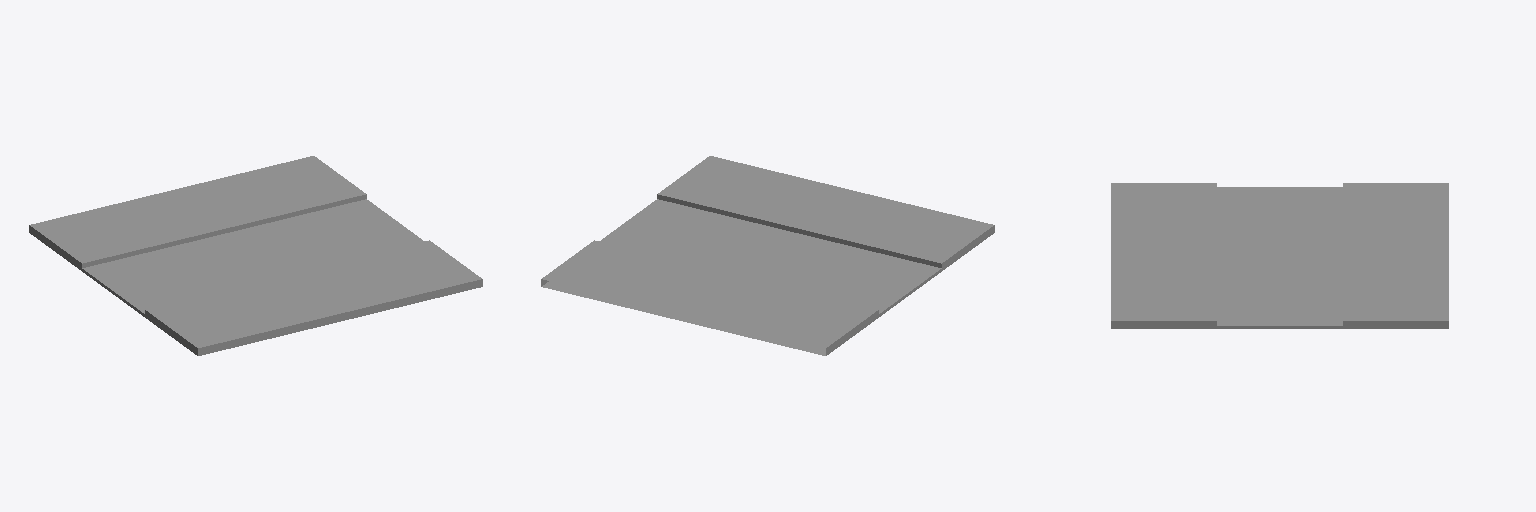
The model's file is ground.obj.
3 renders of one model, left to right at view 1: azimuth 30°, elevation 25°; view 2: azimuth 150°, elevation 25°; view 3: azimuth 270°, elevation 25°, orthographic.
Parts seen in each view (by area): view 1: Cube; view 2: Cube; view 3: Cube.
Boxes of the visible parts, <box> form: Cube: <box>29,156,482,355</box>; Cube: <box>541,156,994,355</box>; Cube: <box>1111,183,1448,328</box>.
Size of the model in its own units: 15.55 by 0.4159 by 15.97.